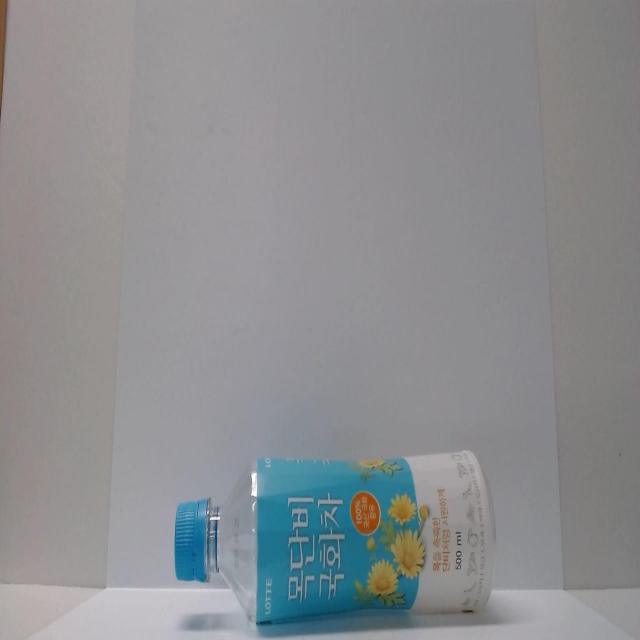bottle: (166, 438, 504, 640)
